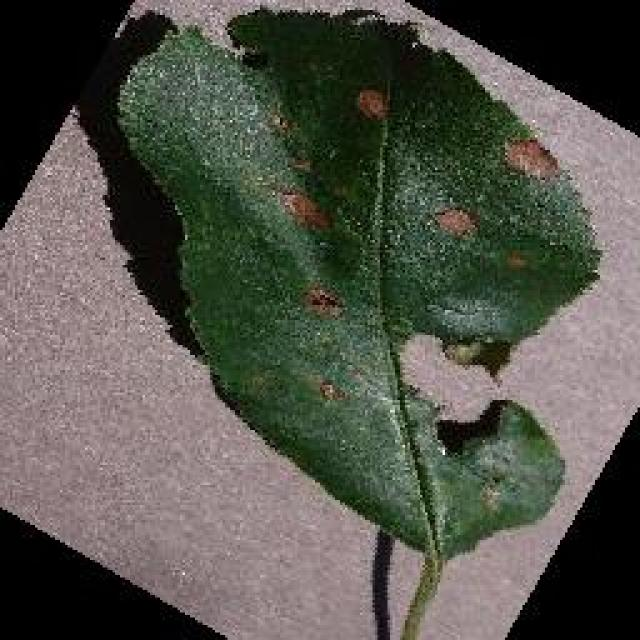Black_rot: (112, 20, 568, 565)
